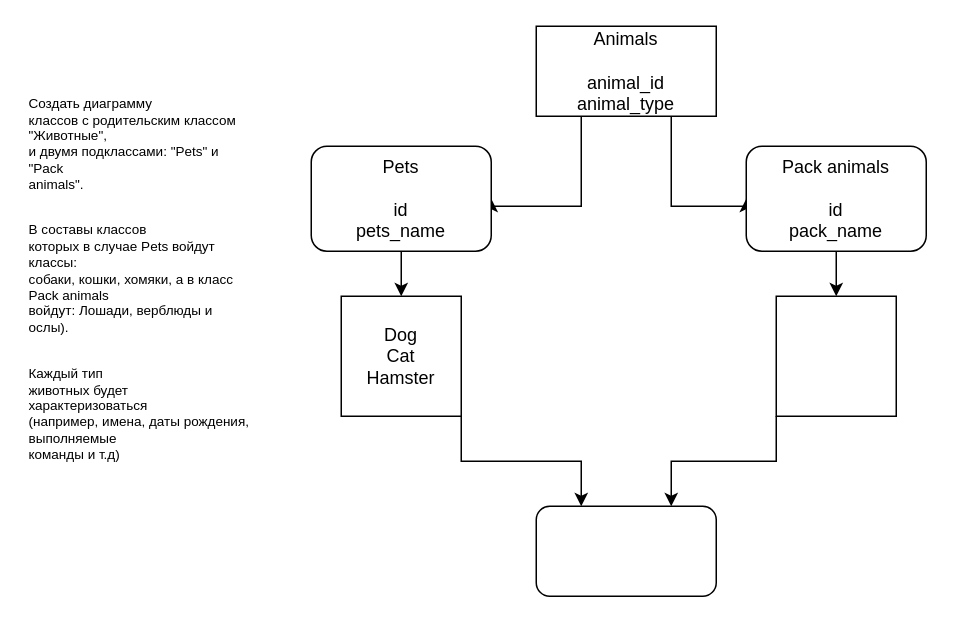
The diagram is 953 pixels wide and 623 high, and some of its shapes have lost their labels. The shapes that lost their labels are listed below. From the top down, each one's centre as x and y in pixels, then its label:
At (x=835, y=355): "Horse Camel Donkey".
At (x=625, y=550): "name birthDate commands".
